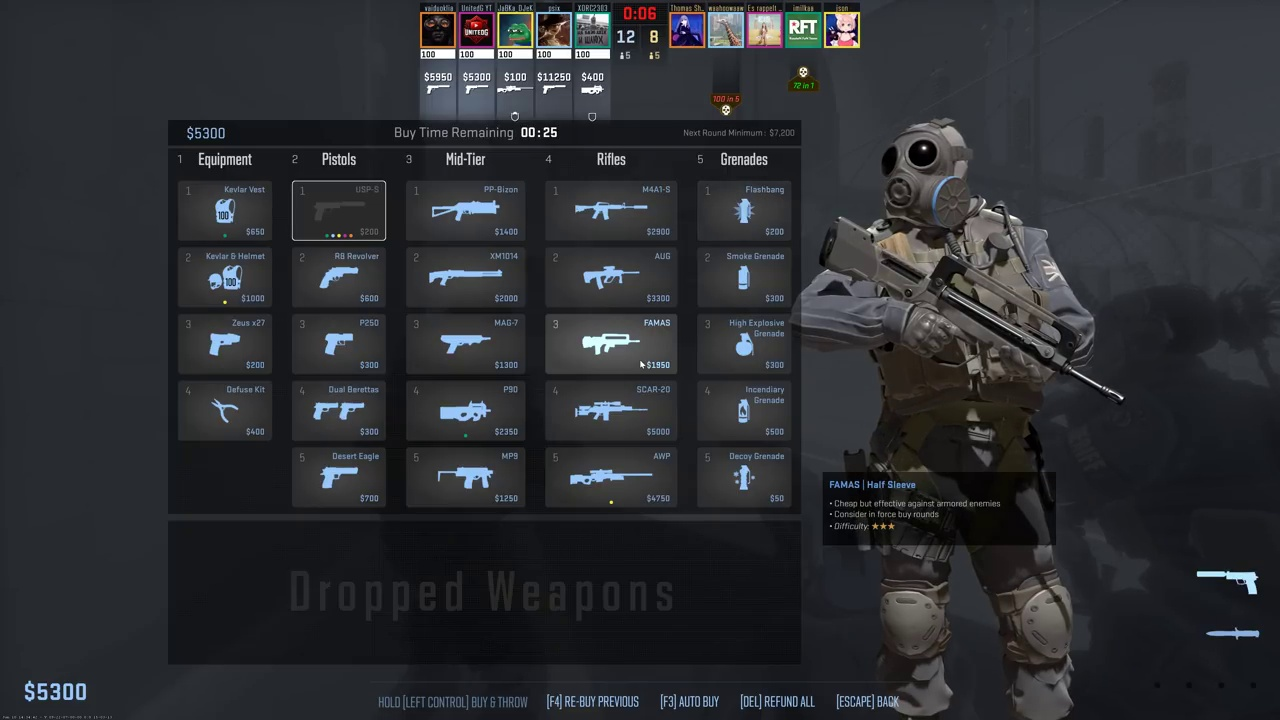CT: (855, 124, 1077, 717)
